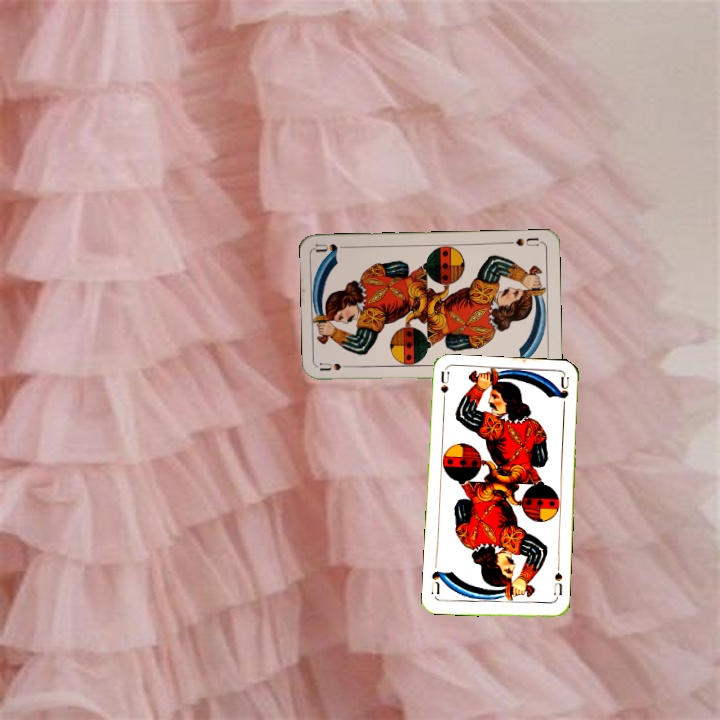SU: (503, 234, 543, 249), (317, 359, 357, 374), (437, 369, 452, 409), (550, 569, 565, 598)
